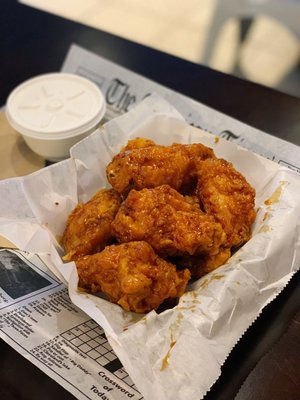pizza: (3, 72, 106, 162)
sushi: (4, 72, 107, 162)
